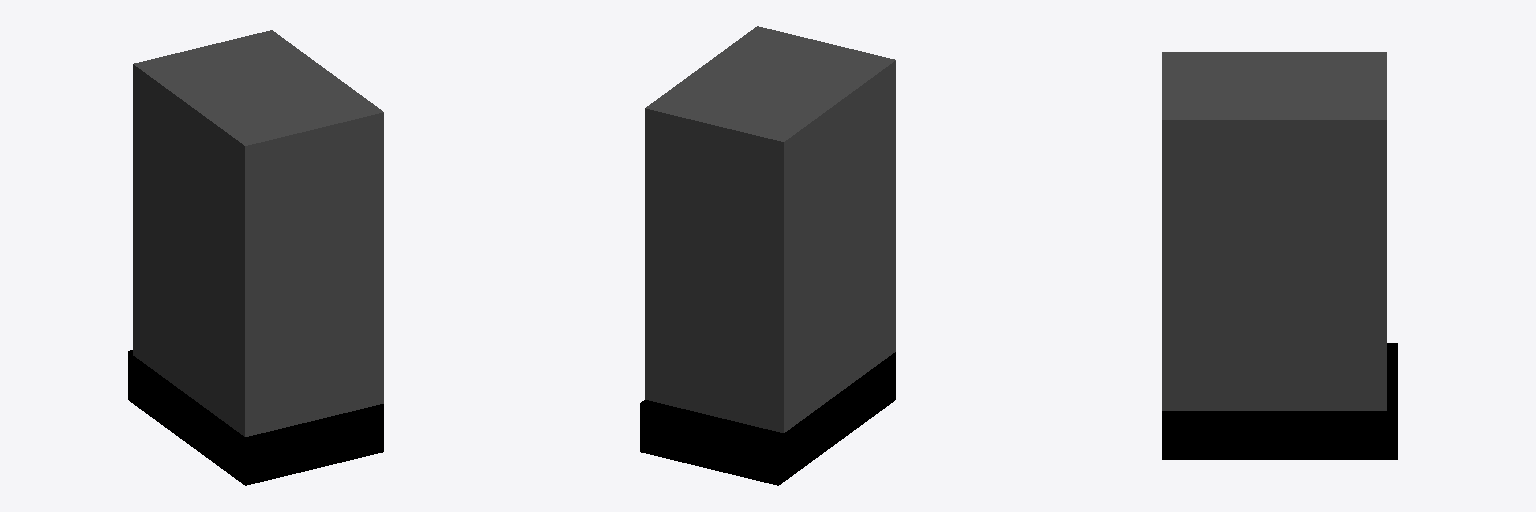
The picture shows the model from 3 angles: view 1: azimuth 30°, elevation 25°; view 2: azimuth 150°, elevation 25°; view 3: azimuth 270°, elevation 25°; orthographic projection.
Visible parts, largest first — view 1: object 1; view 2: object 1; view 3: object 1.
Part boxes in pixels (x1,y1,x2,y2): object 1: (128,30,383,485); object 1: (640,26,895,485); object 1: (1162,52,1397,459).
Size of the model in its own units: 1.5 by 3.5 by 2.2.
1 materials, 1 textured.